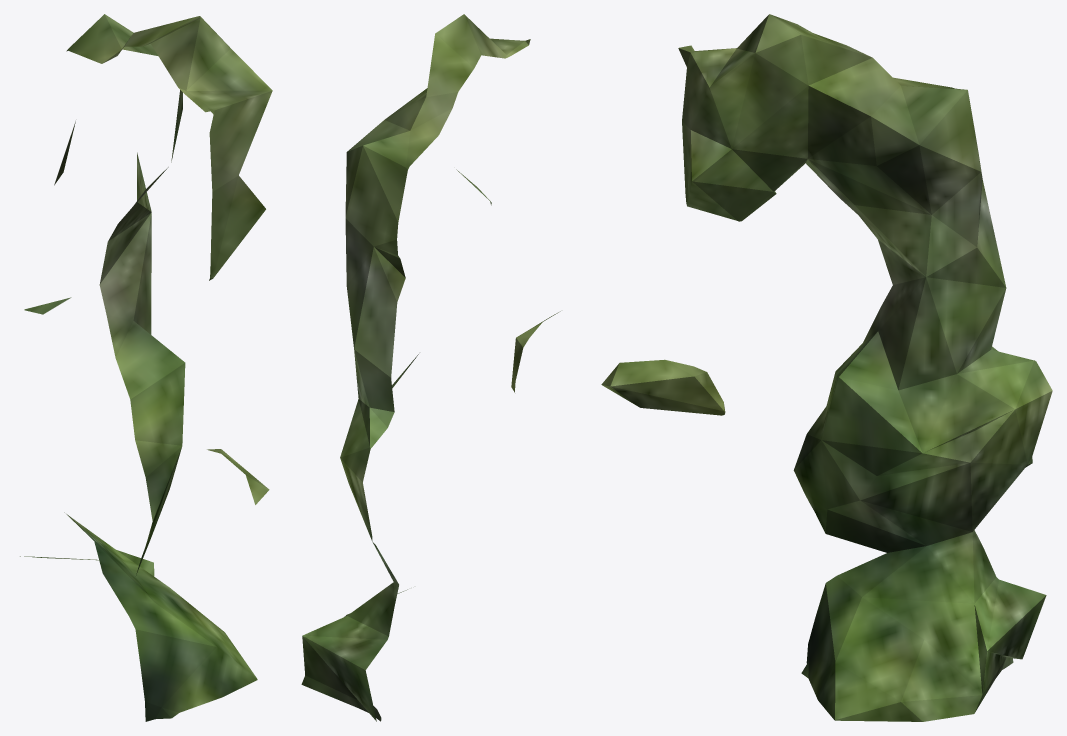
3 views of the same model, side by side, from view 1: azimuth 30°, elevation 25°; view 2: azimuth 150°, elevation 25°; view 3: azimuth 270°, elevation 25° (orthographic). The views are drawn at different scales.
Size of the model in its own units: 1.88 by 9.82 by 6.05.
1 material, 1 textured.
